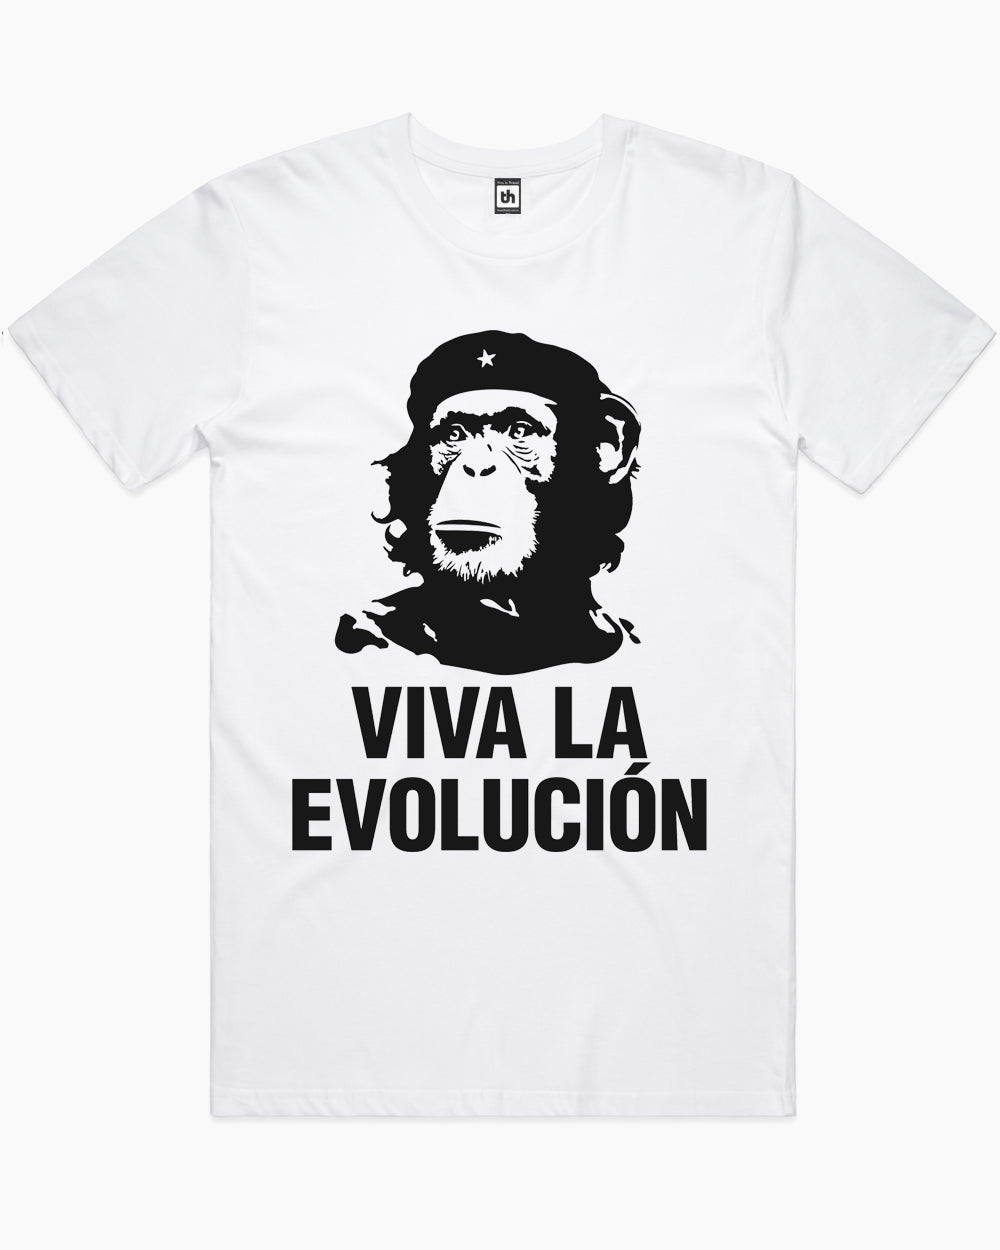design: (288, 322, 712, 857)
